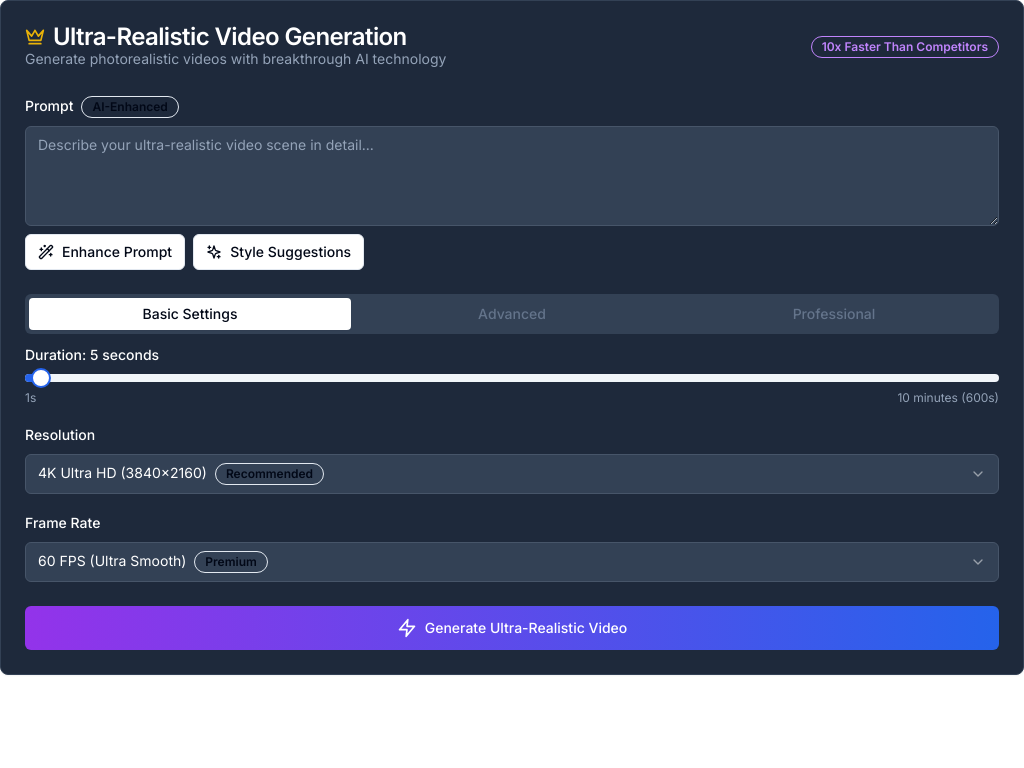
Test: VideoGenerationPanel › switches to professional tab and shows professional features
This screenshot has width=1024, height=768.
Click the tab "Professional".
click(834, 314)  # box [673,298,995,330]
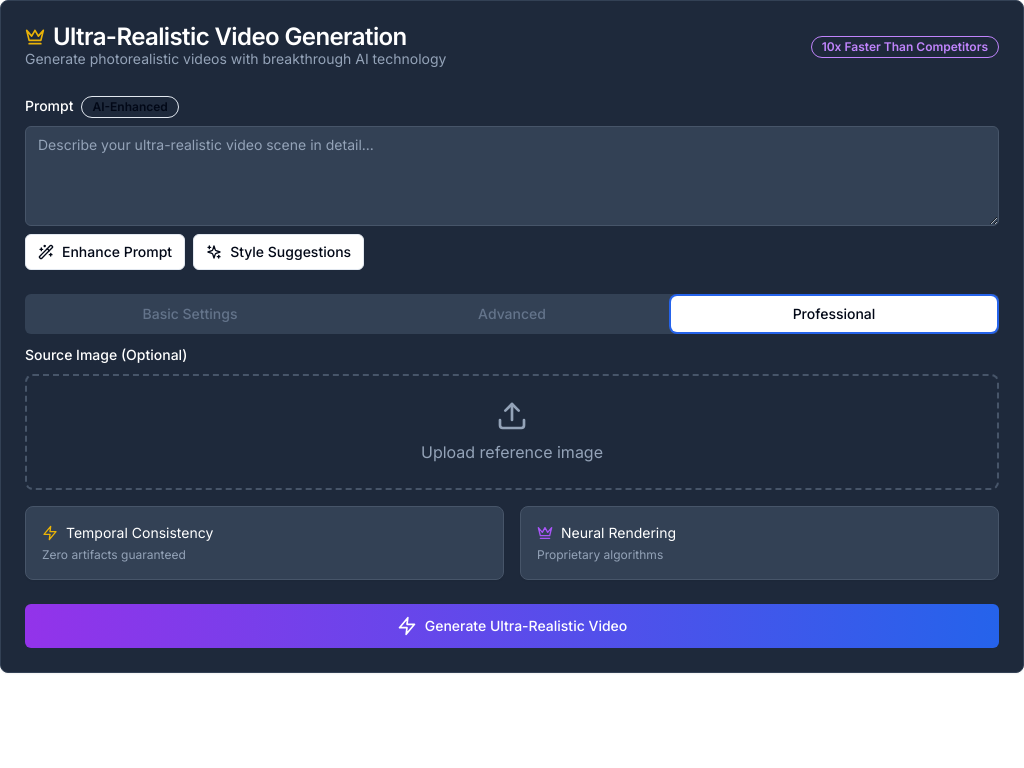
Expected: the text "Source Image (Optional)" is shown, [25,346,187,363]
Expected: the text "Upload reference image" is shown, [421,442,603,462]
Expected: the text "Temporal Consistency" is shown, [66,523,213,543]
